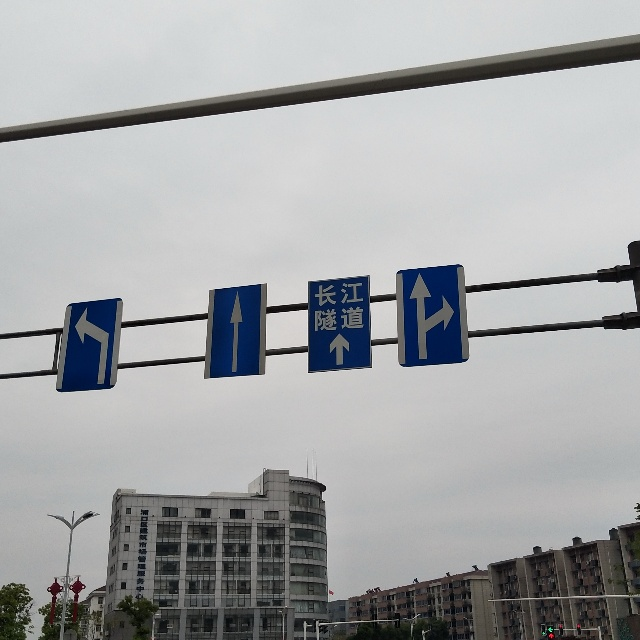left: (57, 300, 117, 392)
straight: (214, 289, 256, 375)
